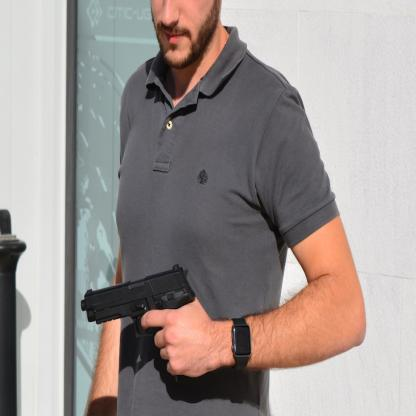gun: (80, 263, 196, 338)
